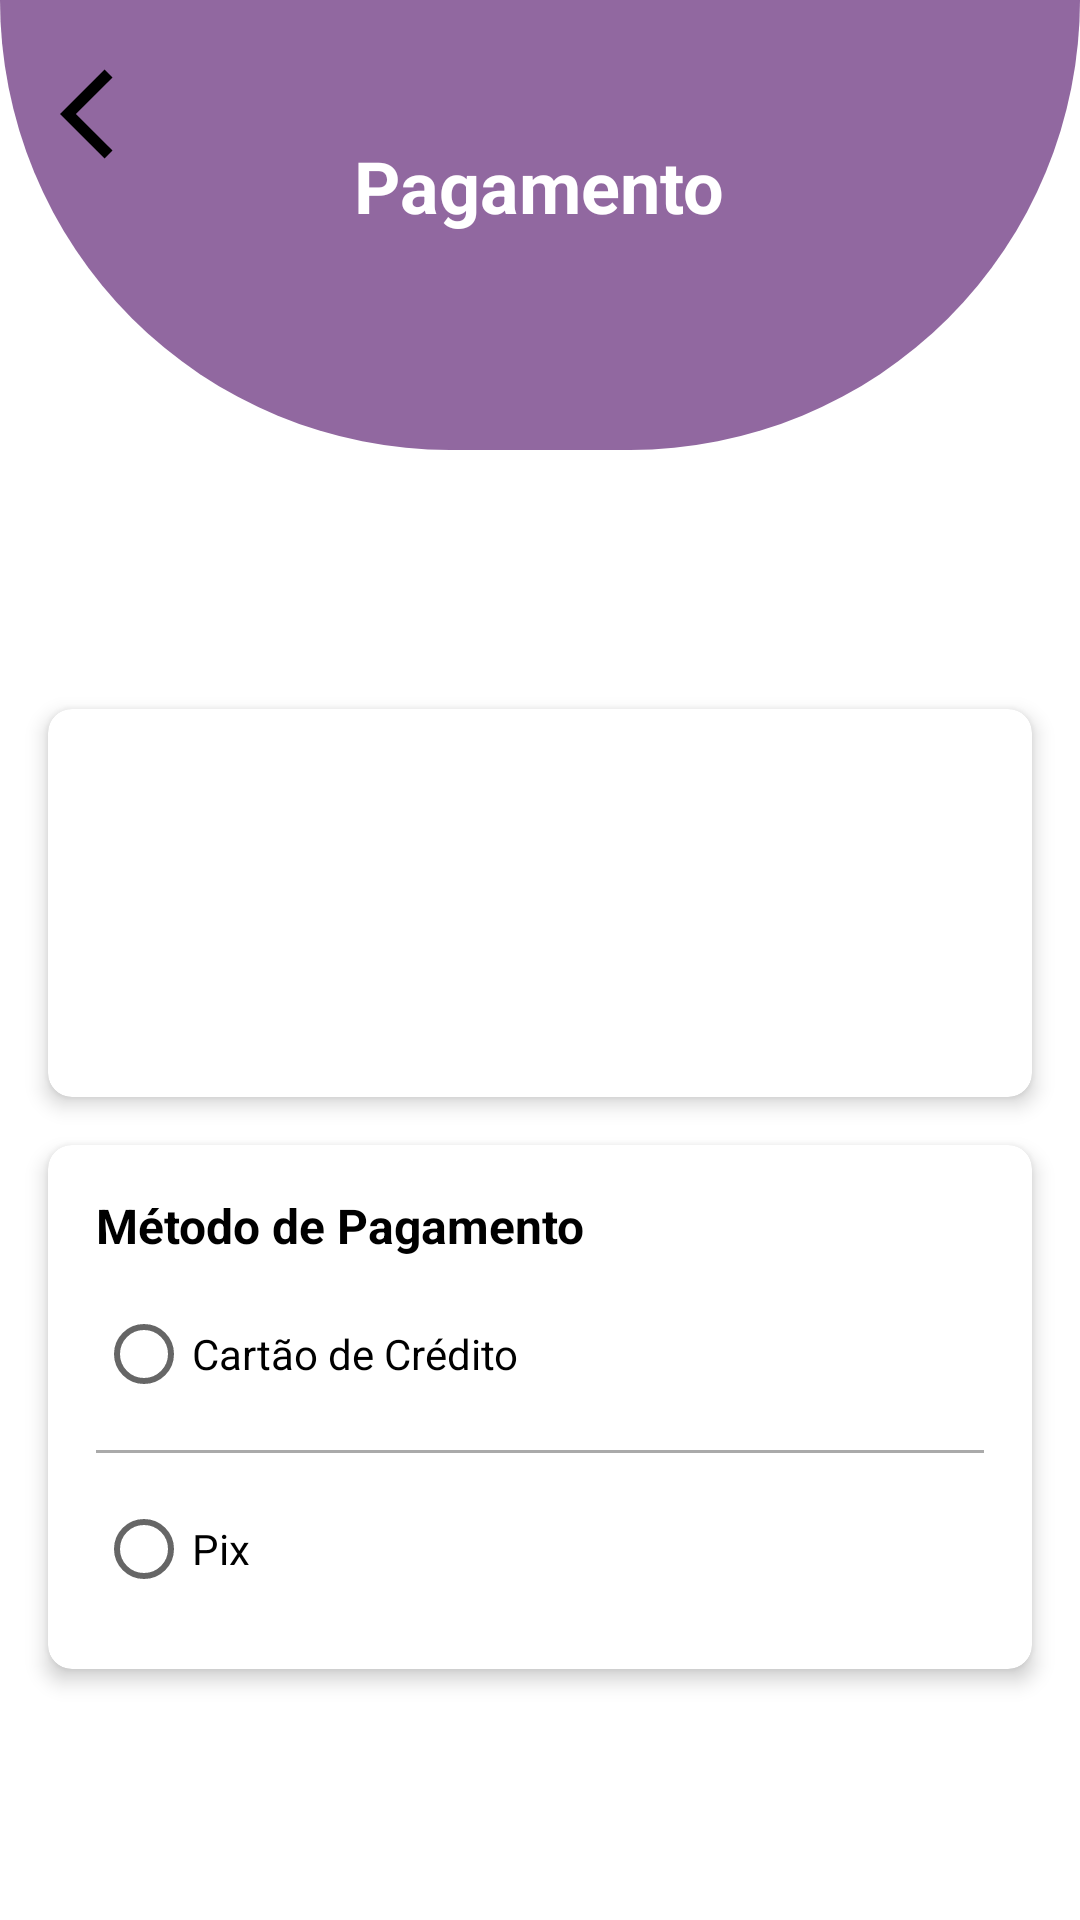

Where icons sit on this 1080px×1920px app screen, as (x1, y1, x2, y2):
back: (60, 69, 113, 159)
